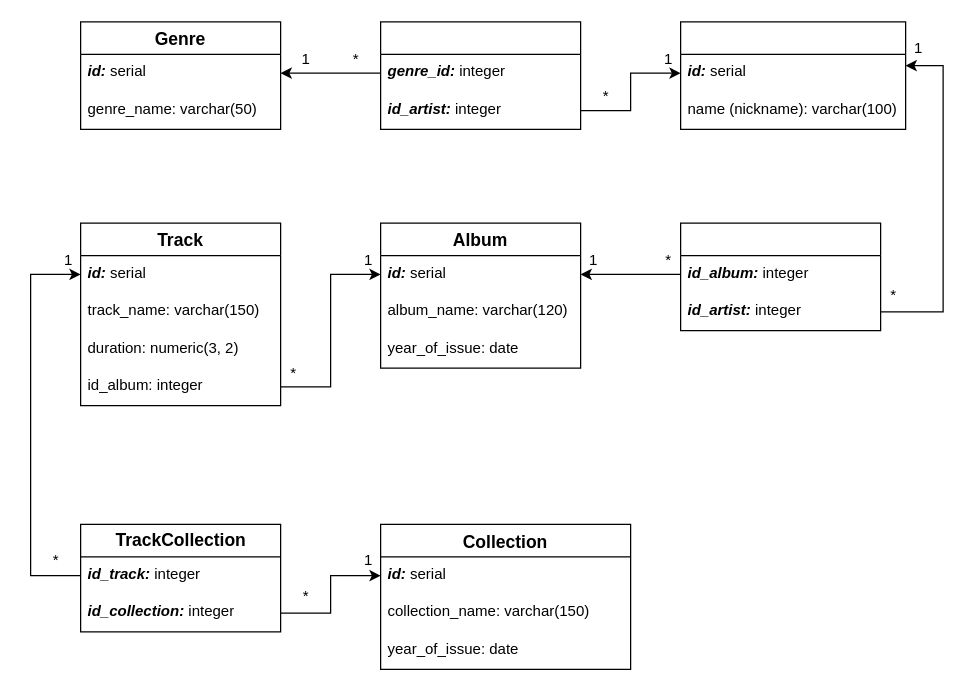
Some shapes in this 975 by 695 pixel diagram are drawn without their labels. The box of each missing label's shape, as (x1, y1, x2, y2) in pixels:
AlbumArtist: (679, 222, 881, 331)
Artist: (679, 21, 906, 129)
GenreArtist: (379, 21, 581, 129)
